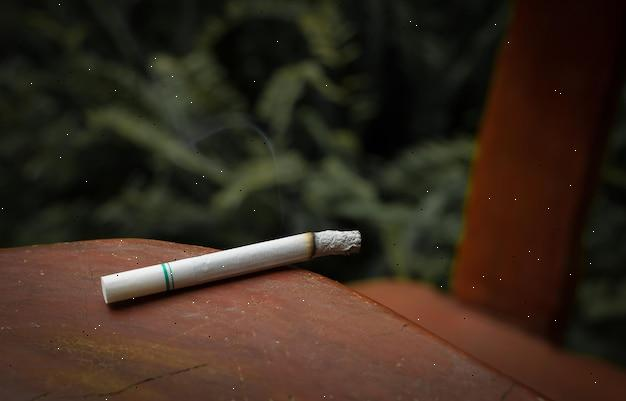cigarette: (101, 230, 360, 303)
